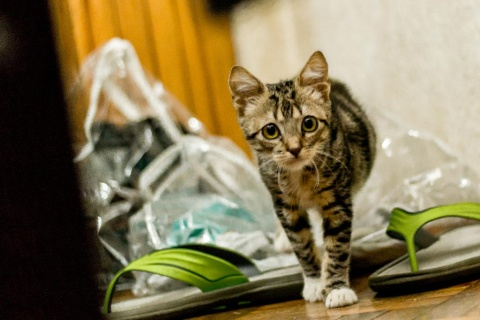Cat: (232, 48, 380, 312)
